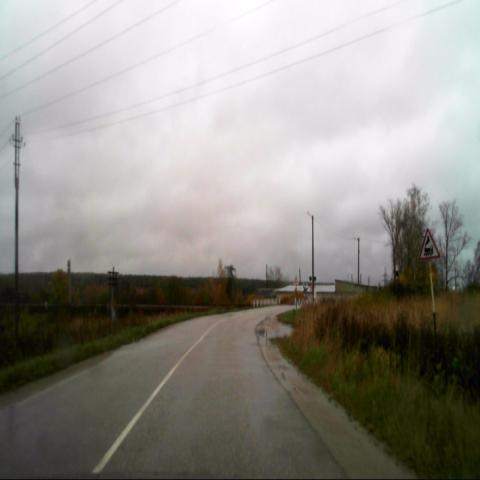1_2: (418, 226, 440, 261)
